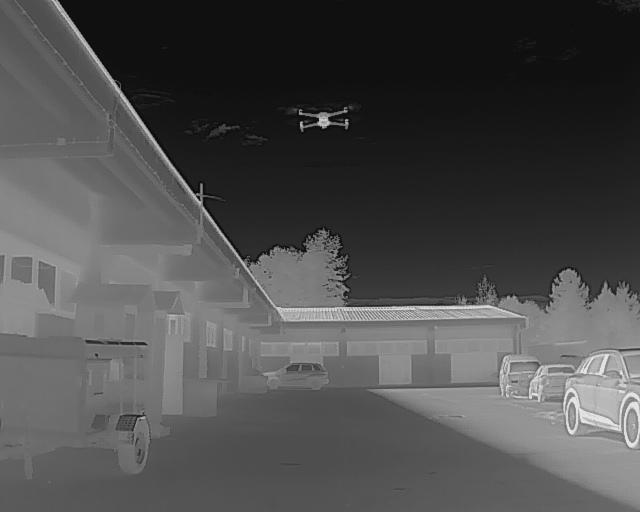drone: (285, 96, 363, 139)
